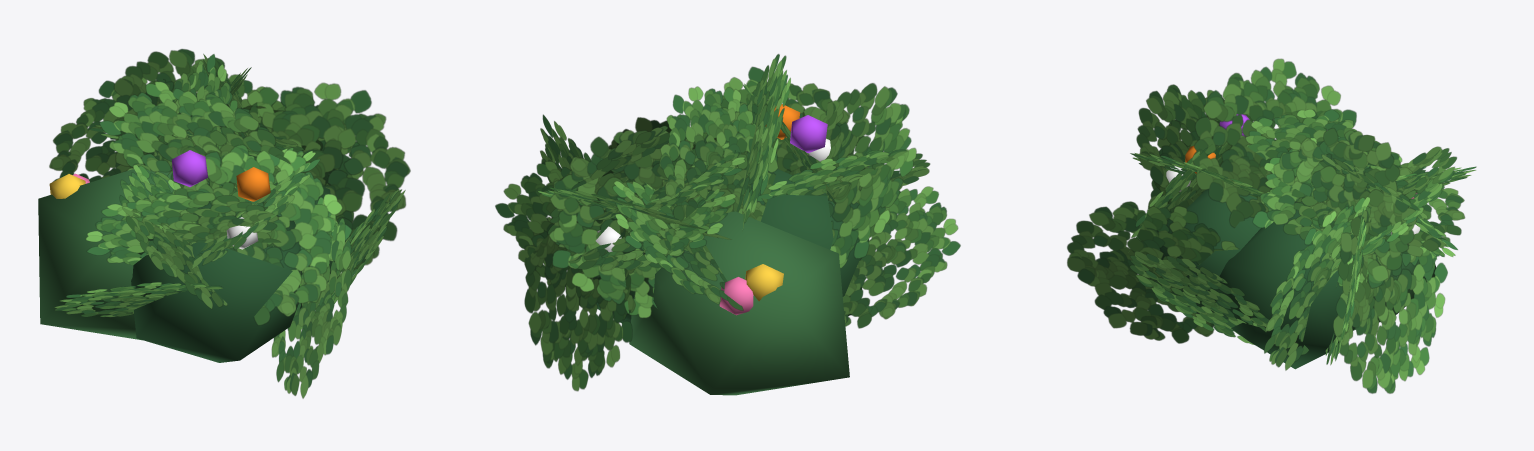
Rendered from nature_hedge.glb.
The picture shows the model from 3 angles, left to right: view 1: azimuth 30°, elevation 25°; view 2: azimuth 150°, elevation 25°; view 3: azimuth 270°, elevation 25°; orthographic projection. The views are drawn at different scales.
Parts seen in each view (by area): view 1: nature_hedge; view 2: nature_hedge; view 3: nature_hedge.
Boxes of the visible parts, x1=… form: nature_hedge: x1=38, y1=49, x2=410, y2=398; nature_hedge: x1=495, y1=54, x2=960, y2=395; nature_hedge: x1=1067, y1=58, x2=1476, y2=393.
Size of the model in its own units: 1.76 by 1.42 by 1.83.
Materials: 8 (1 with a texture image).
